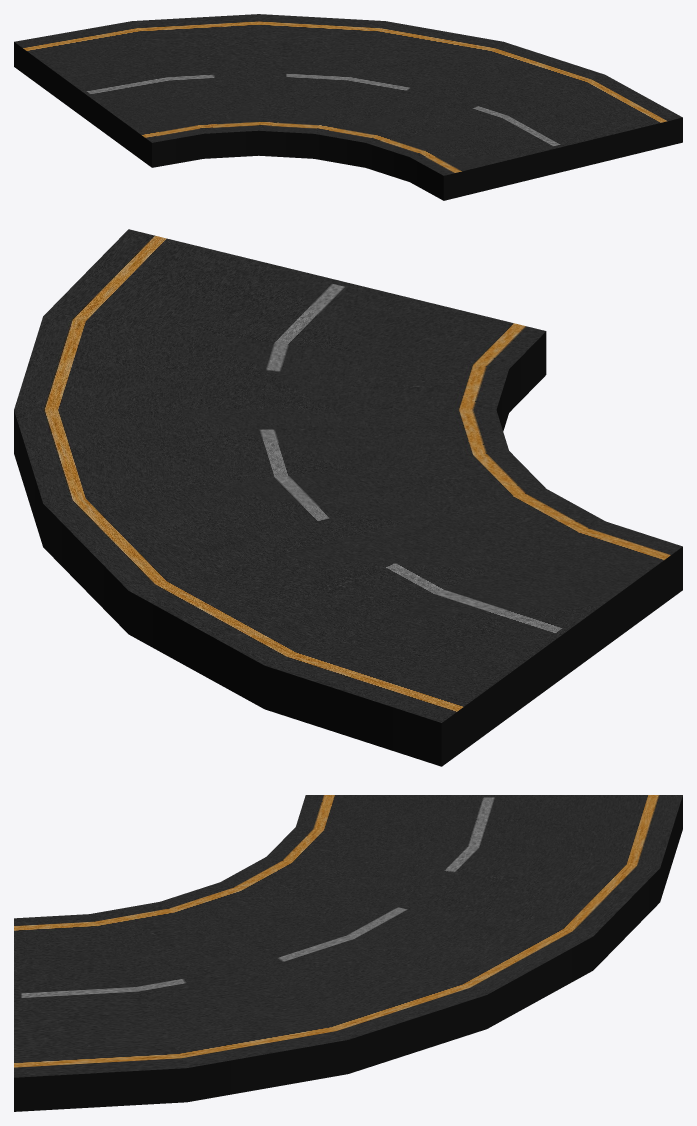
Rendered from CurvedRoad.FBX.
3 renders of one model, top to bottom at view 1: azimuth 30°, elevation 25°; view 2: azimuth 150°, elevation 25°; view 3: azimuth 270°, elevation 25°, orthographic. The views are drawn at different scales.
Visible parts, largest first — view 1: Box003; view 2: Box003; view 3: Box003.
Part boxes in pixels (<box>): Box003: <box>14,14,682,200</box>; Box003: <box>14,229,682,766</box>; Box003: <box>14,795,682,1111</box>.
Size of the model in its own units: 53.2 by 3 by 53.2.
Materials: 2 (1 with a texture image).
